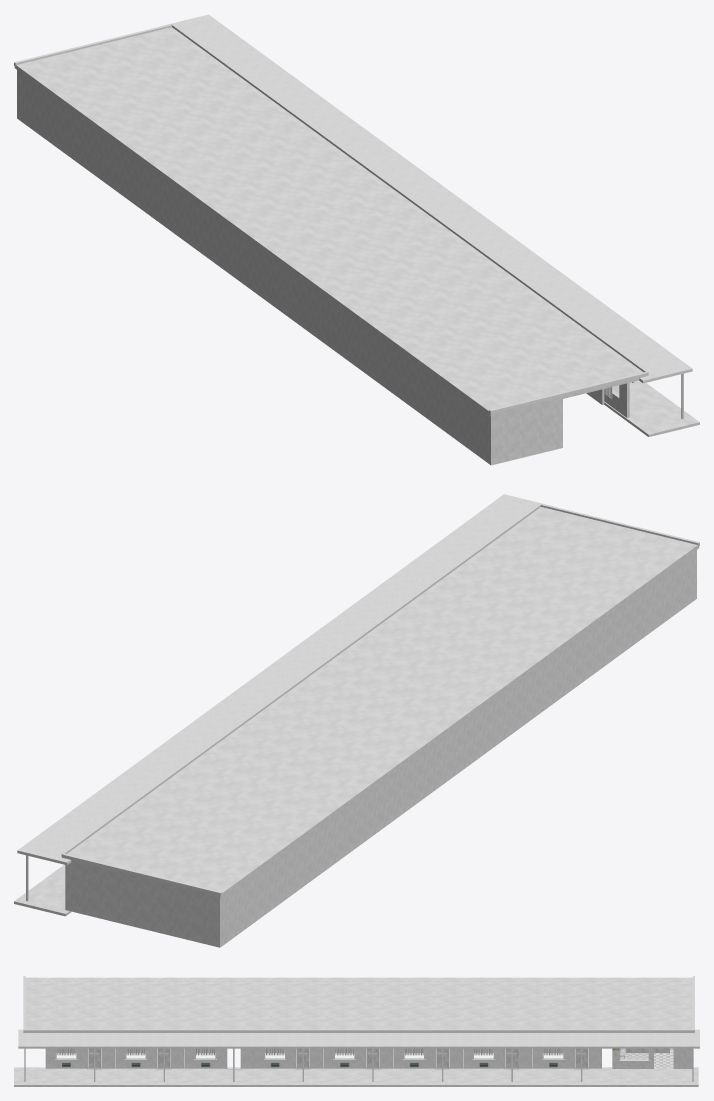
Rendered from Motel_Court.glb.
The picture shows the model from 3 angles, top to bottom: view 1: azimuth 30°, elevation 25°; view 2: azimuth 150°, elevation 25°; view 3: azimuth 270°, elevation 25°; orthographic projection. The views are drawn at different scales.
Parts seen in each view (by area): view 1: SM_Town_Motel_Shell; view 2: SM_Town_Motel_Shell; view 3: SM_Town_Motel_Shell, SM_Town_Motel_Office.
Part boxes in pixels (bbox=[...]): SM_Town_Motel_Shell: bbox=[14, 14, 699, 465]; SM_Town_Motel_Shell: bbox=[14, 494, 699, 947]; SM_Town_Motel_Shell: bbox=[14, 976, 699, 1086]; SM_Town_Motel_Office: bbox=[620, 1048, 673, 1067].
Bounding box in the file's own units: 11.85 × 3.27 × 49.3.
Materials: 16 (11 with a texture image).
